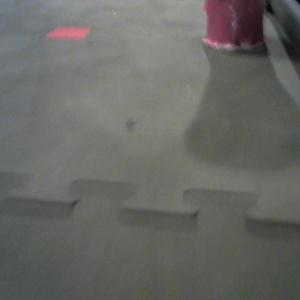Right: (200, 1, 270, 54)
